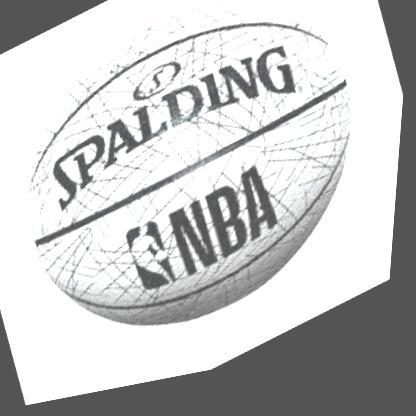basketball: (0, 0, 407, 402)
